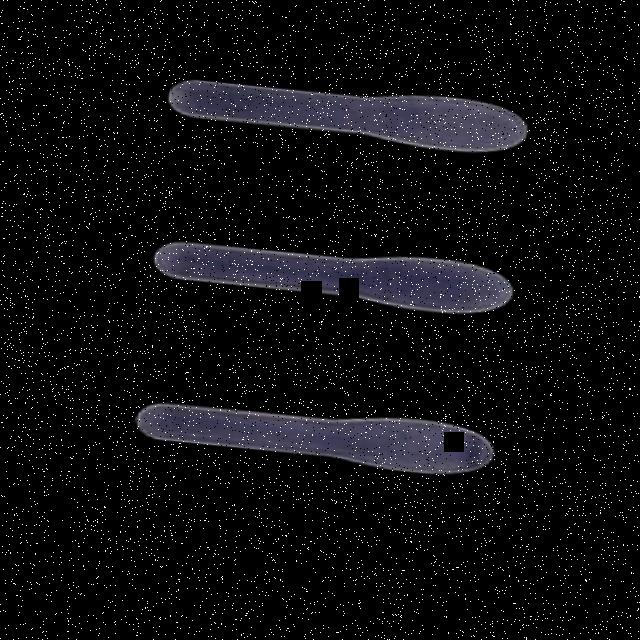plastic_spoon: (147, 226, 518, 326), (128, 390, 498, 488), (162, 70, 532, 164)
